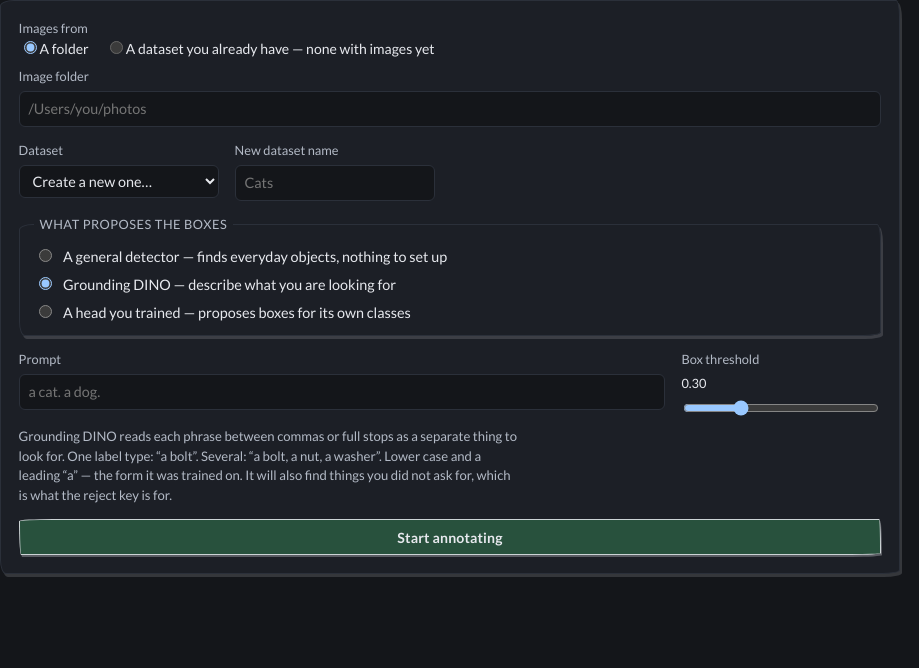
Test case: proposing with a general detector (doc 42) › refuses to start with no detector installed, and says where to get one
This screenshot has width=919, height=668.
In the field labelled "Image folder": [450, 109] box top-left (19, 91), bottom-right (881, 127), type "/pics"
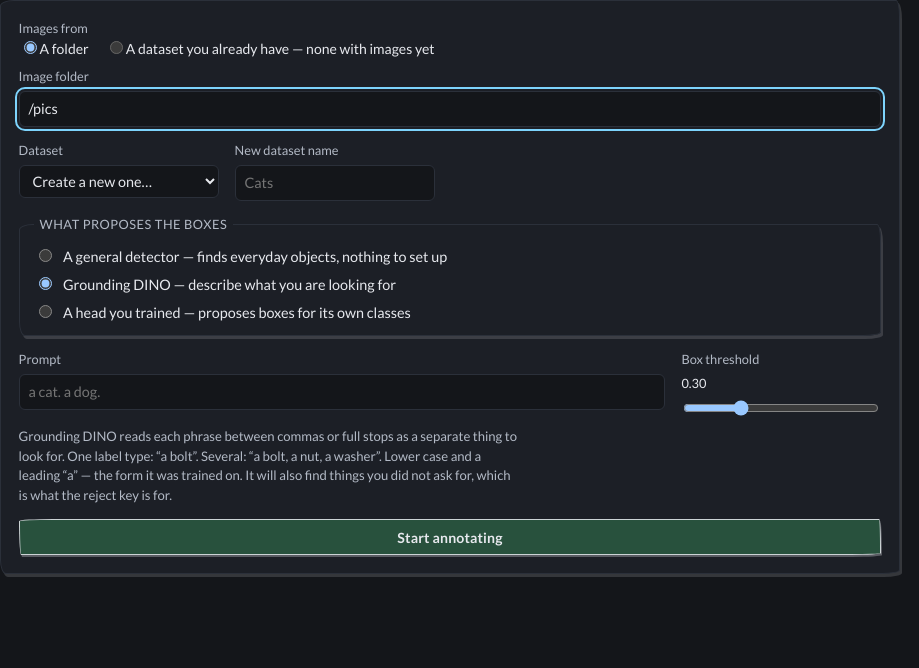
In the field labelled "New dataset name": [335, 183] box top-left (235, 165), bottom-right (435, 201), type "Things"
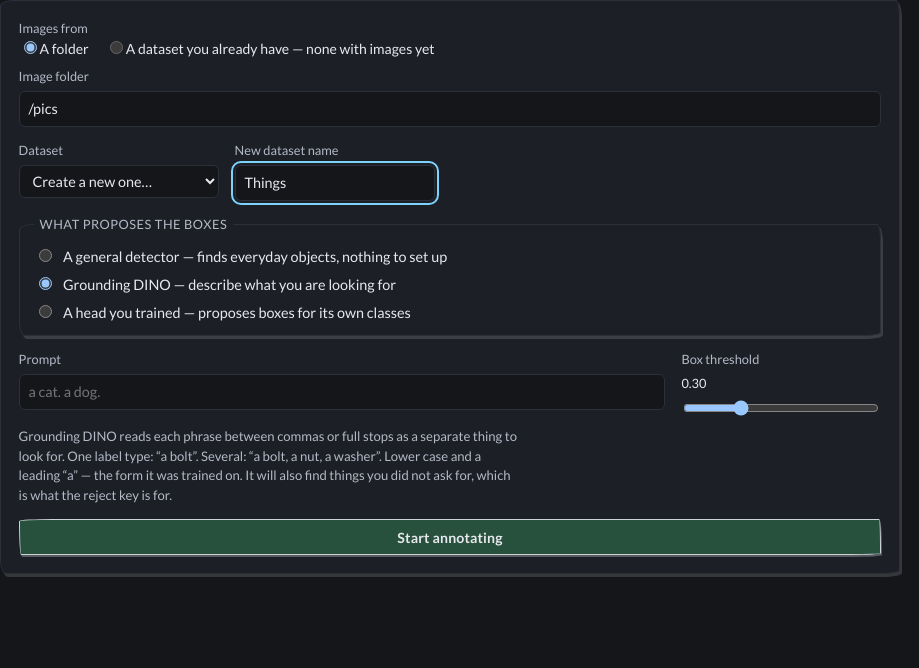
Click the radio button labelled "general detector": [46, 255] box top-left (39, 249), bottom-right (52, 262)
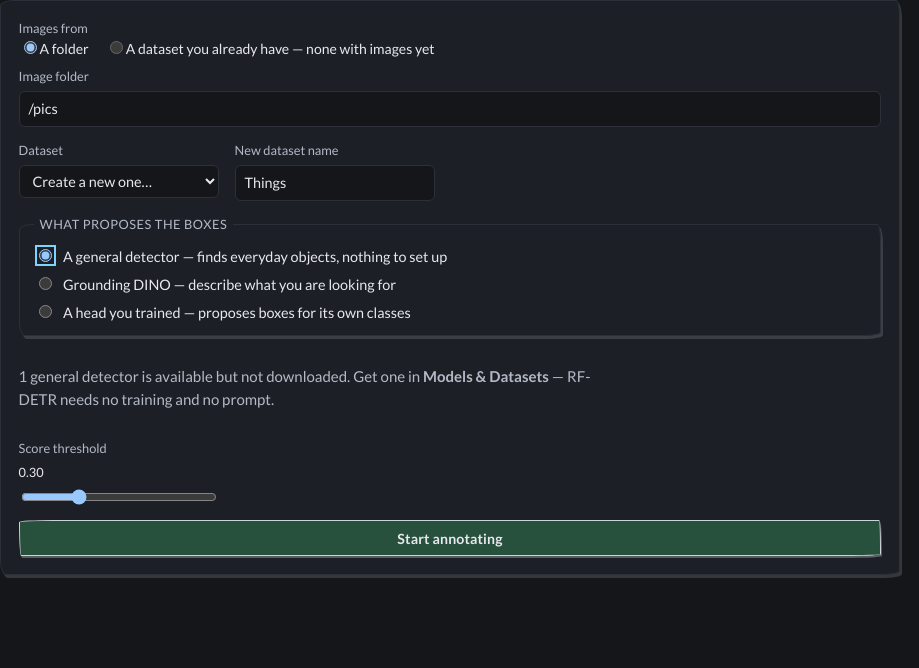
Click the button "Start annotating": [450, 538] box top-left (19, 520), bottom-right (881, 556)
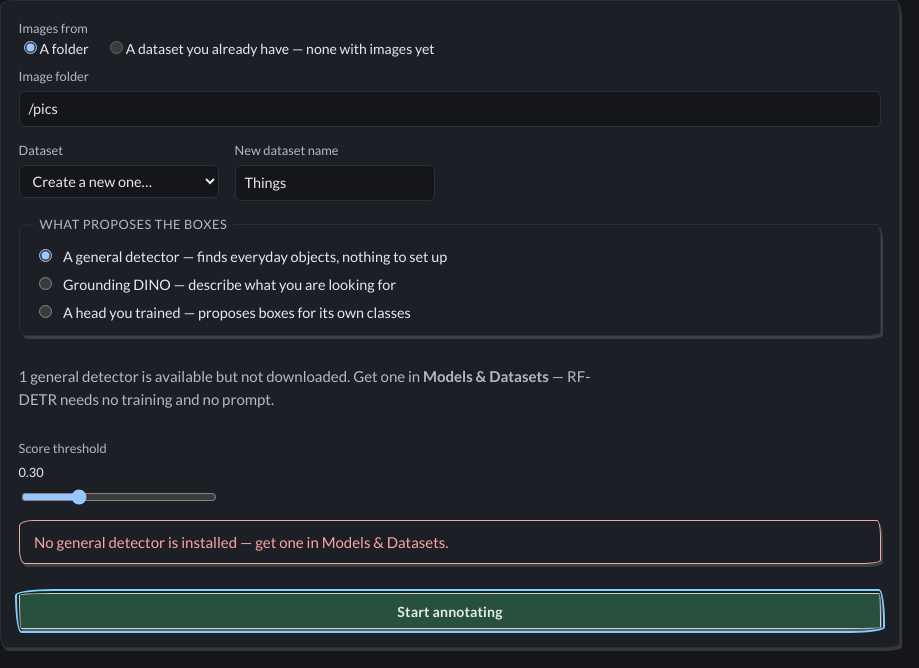
Check: the message "No general detector is installed — get one in Models & Datasets." is shown, box top-left (19, 520), bottom-right (881, 564)
